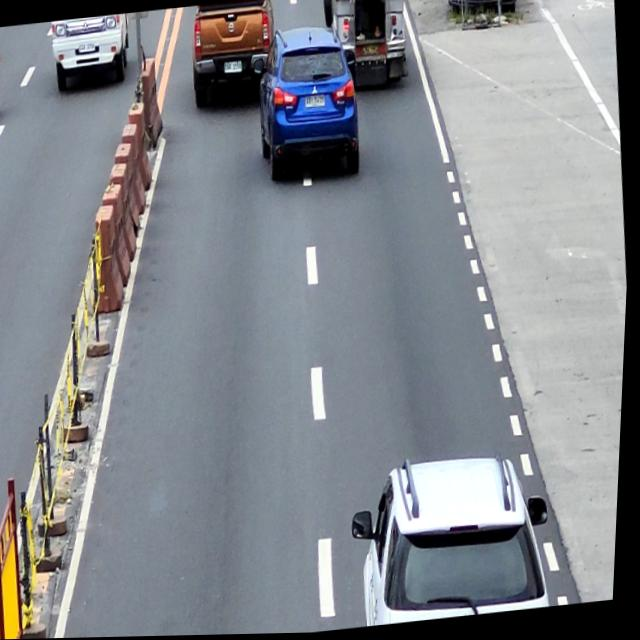Car: (349, 445, 562, 629), (250, 21, 368, 189), (186, 0, 281, 110)
Jeep: (318, 0, 413, 96)
License-Plate: (223, 60, 243, 75), (306, 95, 326, 109), (362, 45, 380, 58)
